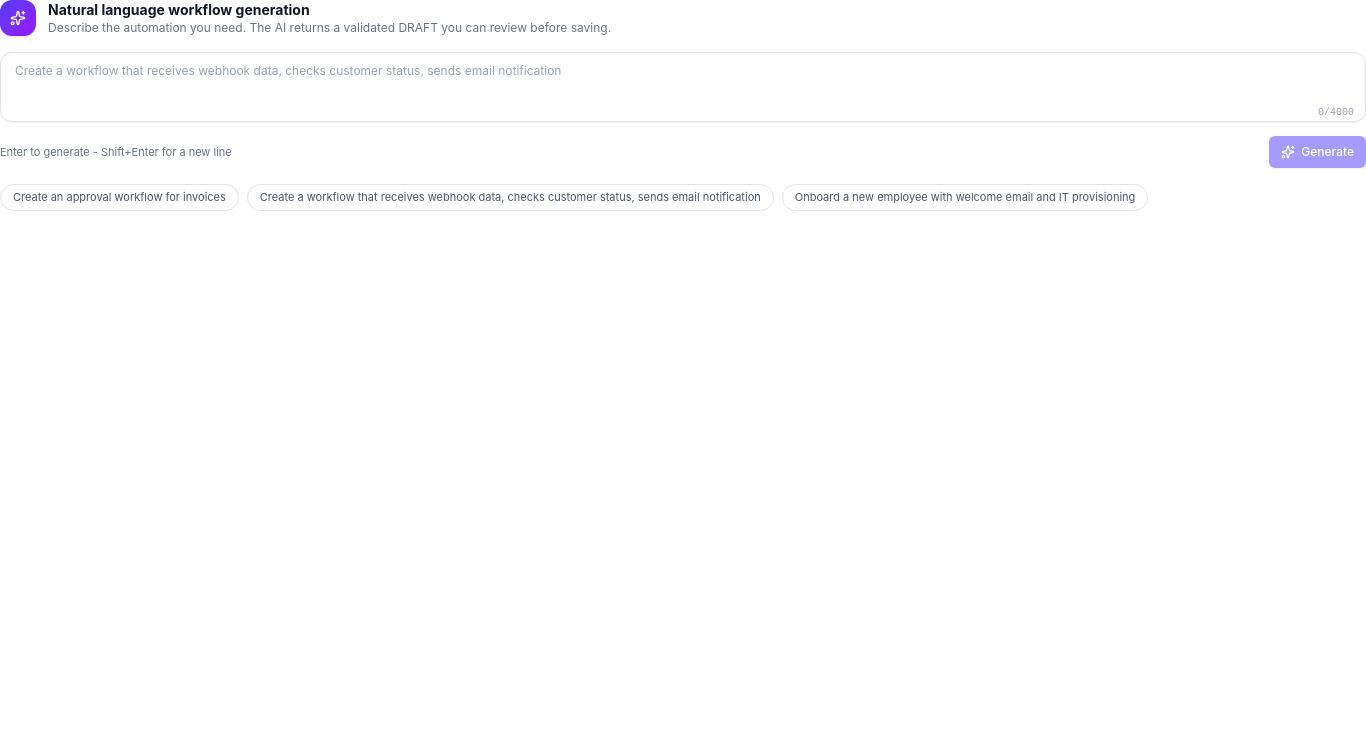
it: Workflow Generator › generates a workflow draft and persists it
Replace the text in the text box with test id "ai-prompt-input" with "Create an invoice approval workflow" at (683, 87), box top-left (0, 52), bottom-right (1365, 122)
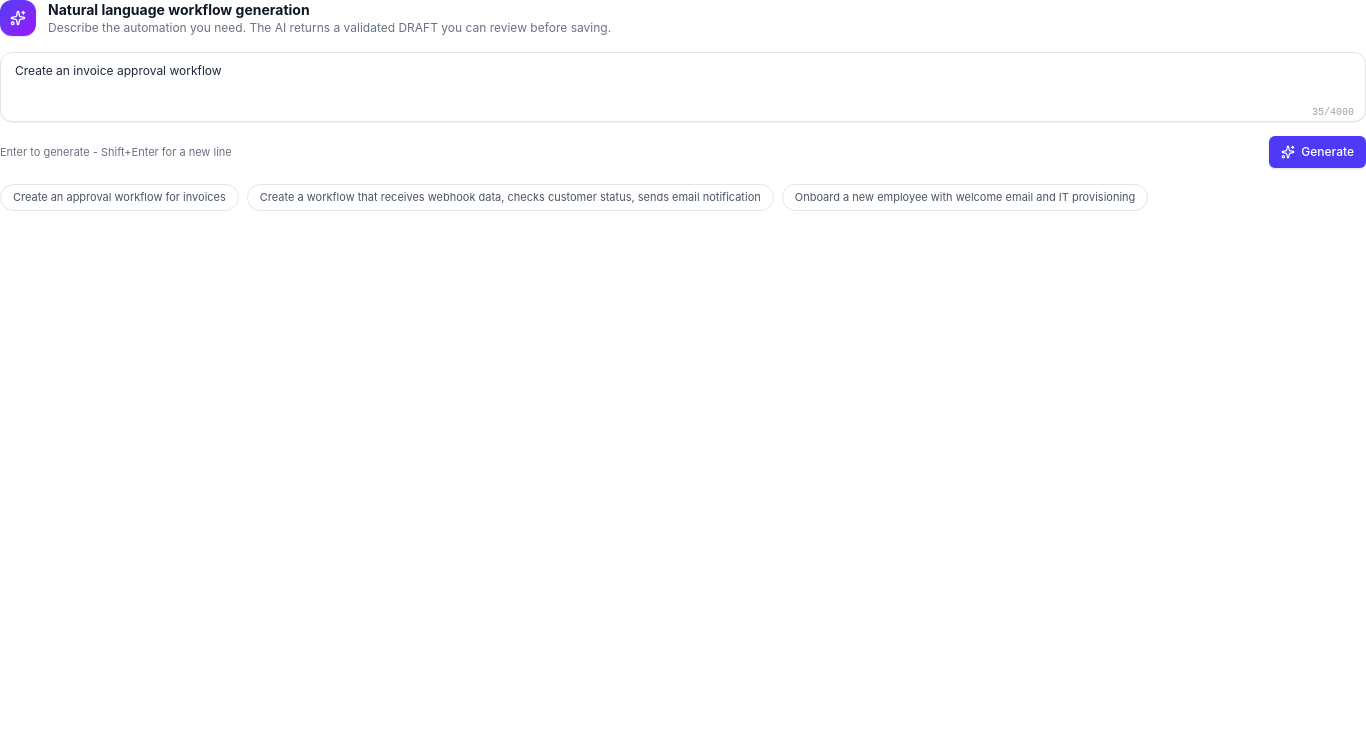
Click the button "Generate".
click(1318, 152)  # box top-left (1269, 136), bottom-right (1365, 168)
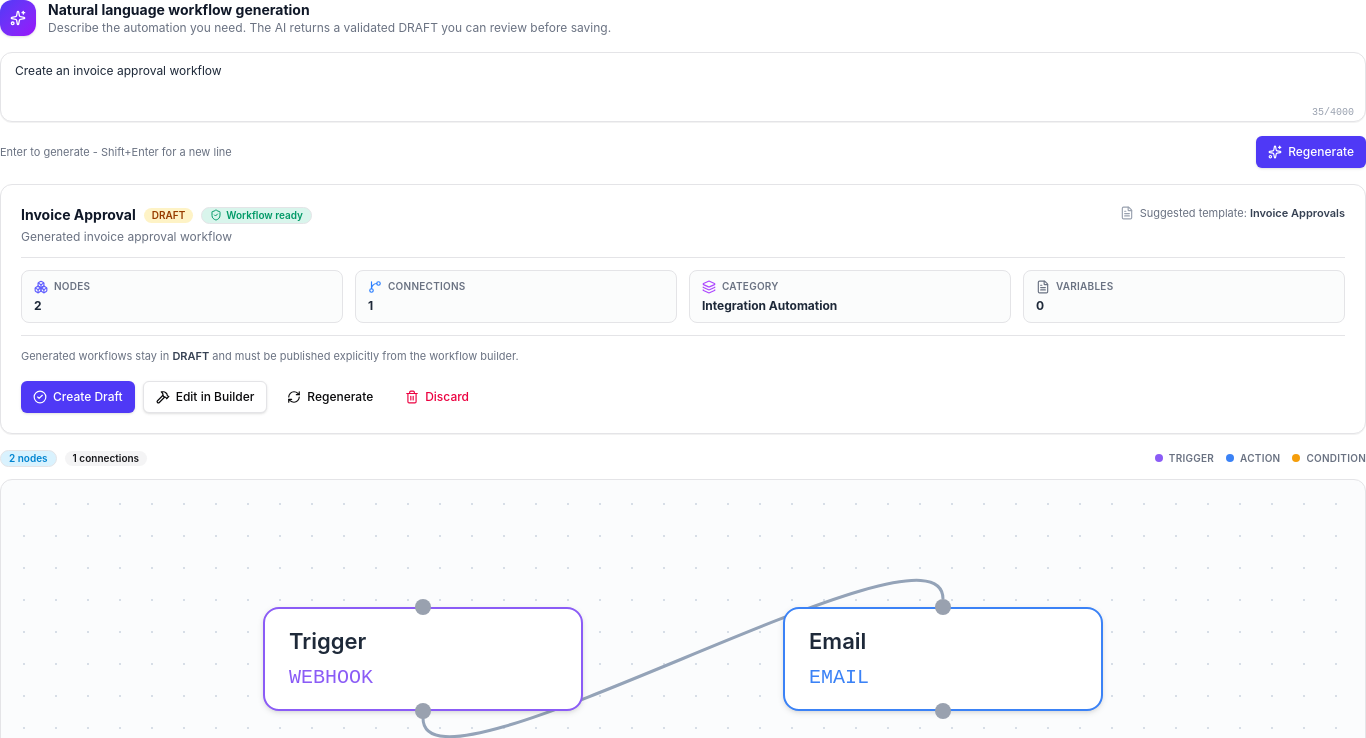
Expected: the heading "Invoice Approval" is shown, top-left (21, 205), bottom-right (136, 225)
Expected: the text "Workflow ready" is shown, top-left (201, 206), bottom-right (312, 224)
Click the button "Create Draft".
click(78, 396)  # box top-left (21, 380), bottom-right (135, 412)
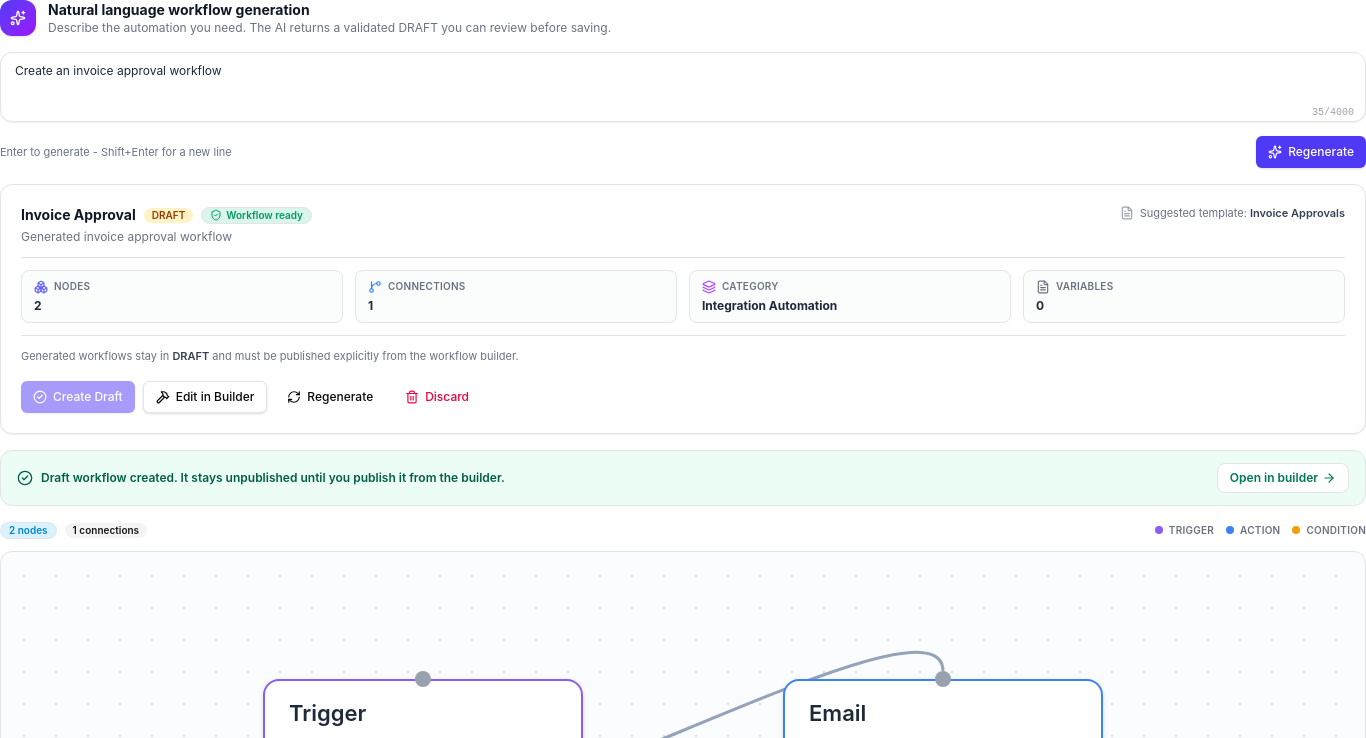
Expected: the text "Draft workflow created" is shown, top-left (41, 470), bottom-right (505, 484)
